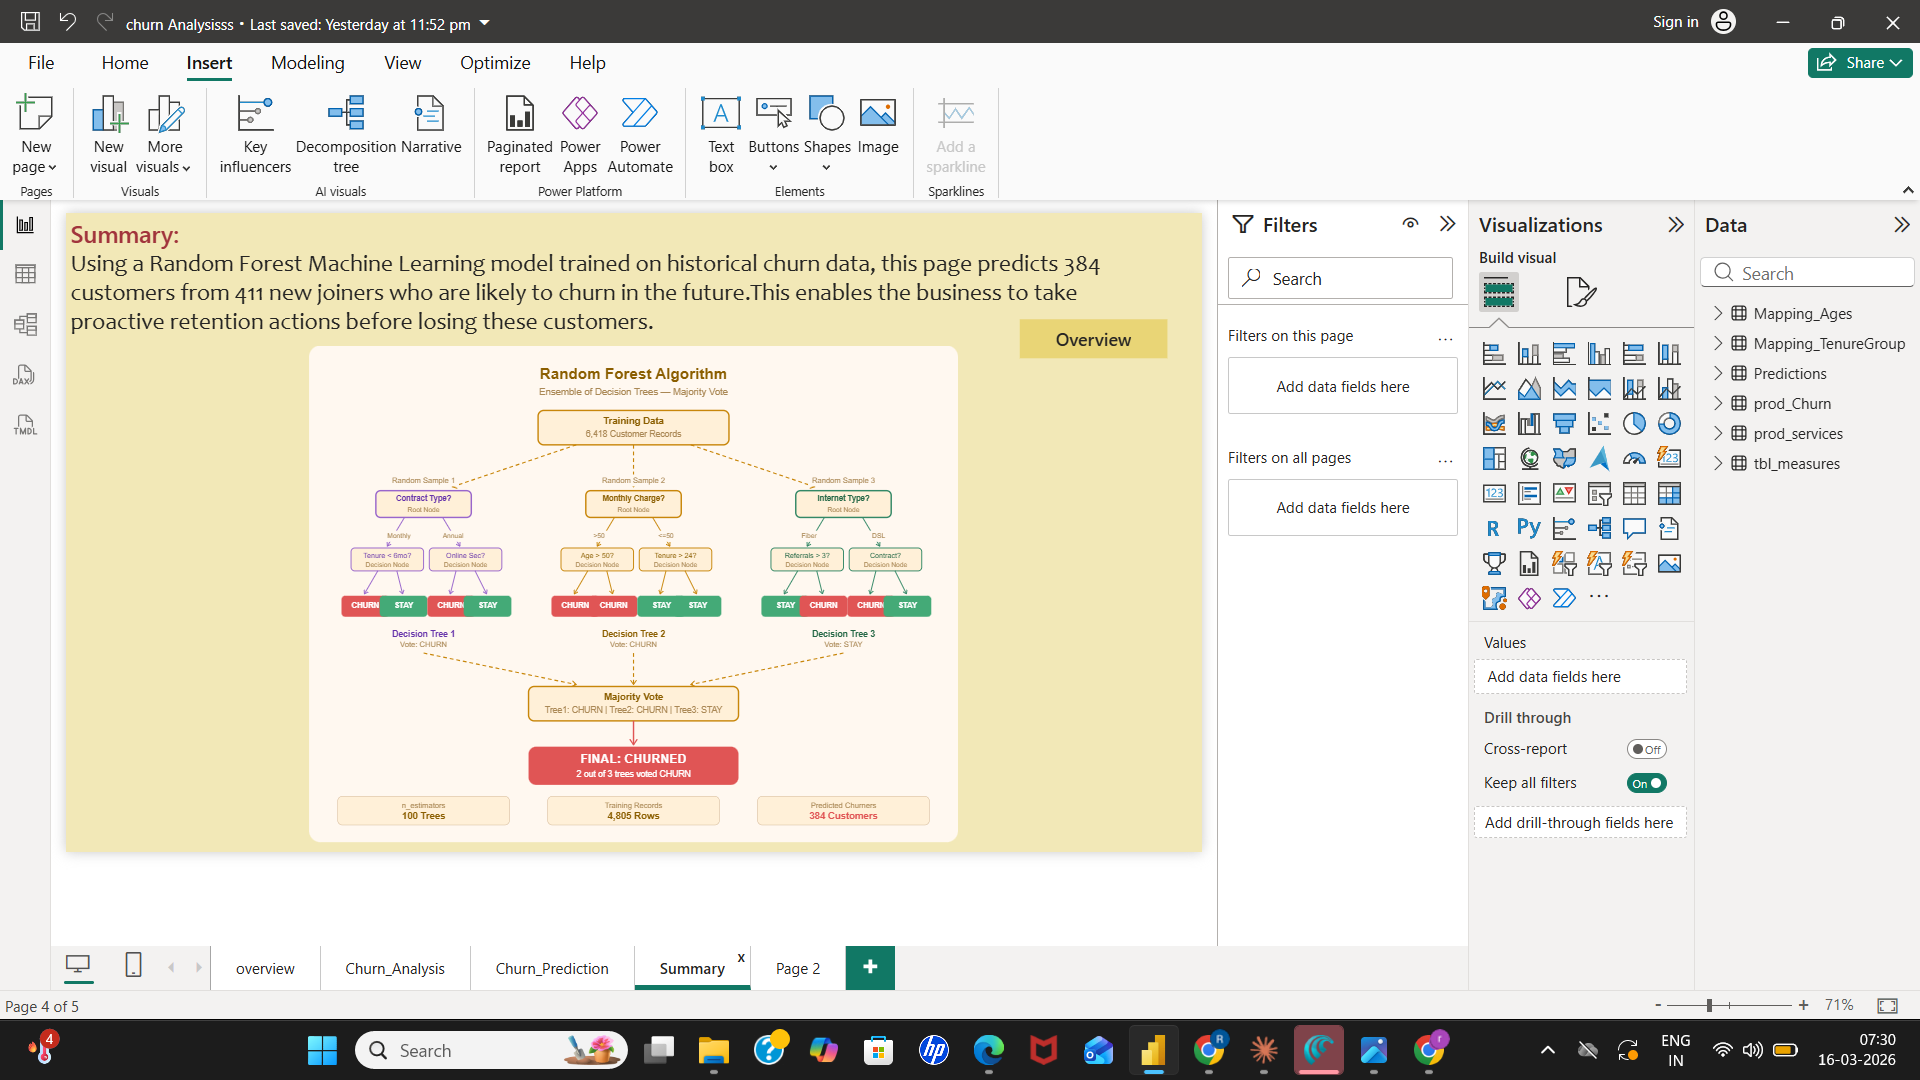

The page's visual inventory and layout, read from the dashboard file:
{"tool":"powerbi","page":{"name":"Summary","canvas":[1280,720],"ordinal":3},"visuals":[{"type":"textbox","box":[0,0,1240.8,163.4],"z":0},{"type":"image","box":[245.1,149.3,788.7,570.4],"z":1000},{"type":"actionButton","box":[1074.6,119.7,166.2,43.7],"z":1001}]}

Visuals, with their boxes on the page's 1280x720 design canvas (x1, y1, x2, y2). These are canvas units, not pixel positions in the 1920x1080 screenshot, which may show the page scaled, cropped or inside an application window:
textbox: 0,0,1241,163
image: 245,149,1034,720
actionButton: 1075,120,1241,163
